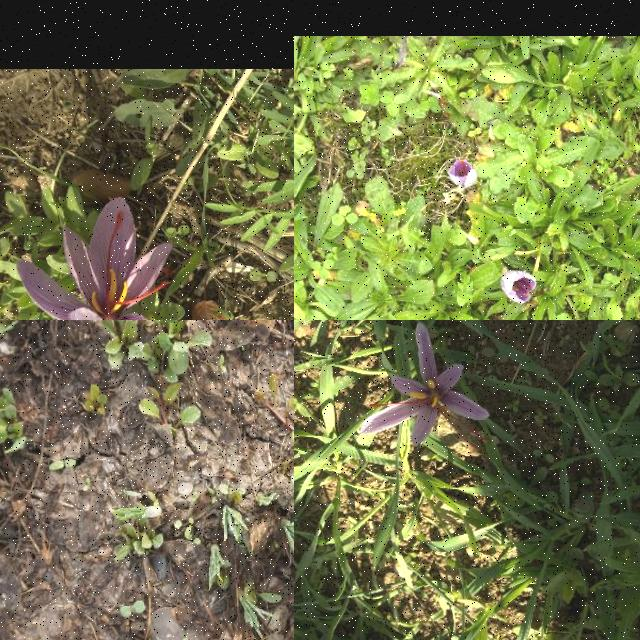flower: (16, 197, 173, 320), (357, 322, 489, 448), (500, 270, 538, 304), (447, 158, 478, 190)
